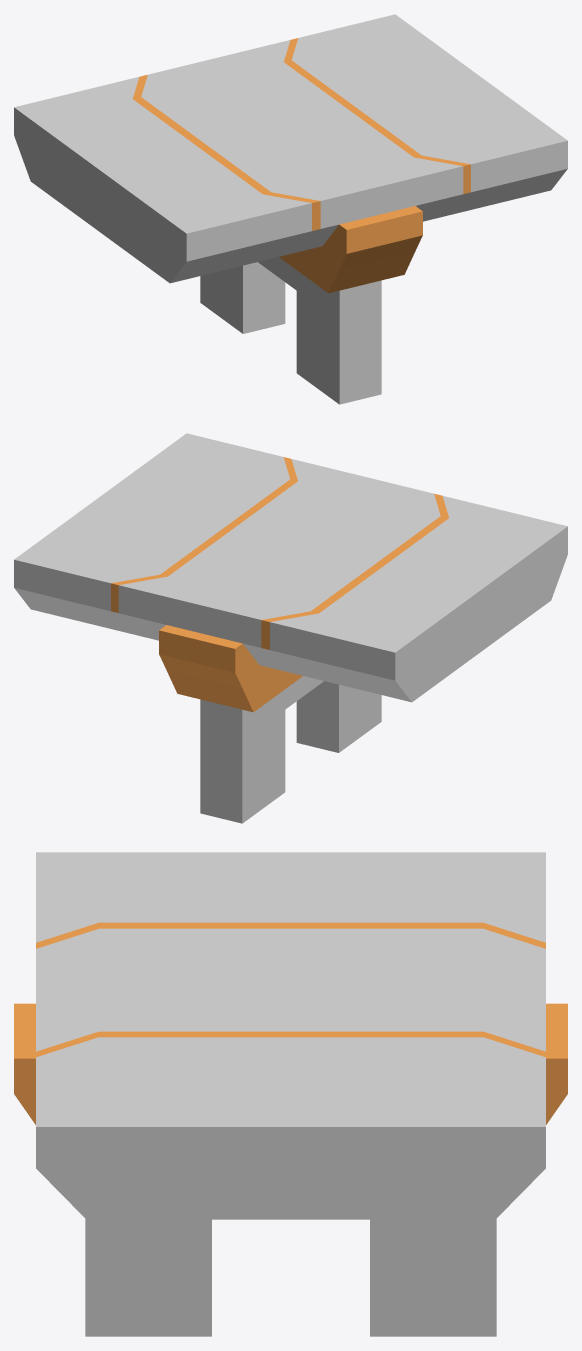
The model's file is covoyeur magnétique2.fbx.
3 renders of one model, top to bottom at view 1: azimuth 30°, elevation 25°; view 2: azimuth 150°, elevation 25°; view 3: azimuth 270°, elevation 25°, orthographic. The views are drawn at different scales.
Visible parts, largest first — view 1: Cube.003; view 2: Cube.003; view 3: Cube.003.
Boxes of the visible parts, box(x1,y1,x2,y2) form: Cube.003: box(14, 14, 567, 404); Cube.003: box(14, 433, 567, 823); Cube.003: box(14, 852, 567, 1336).
Bounding box in the file's own units: 904 × 509 × 770.
